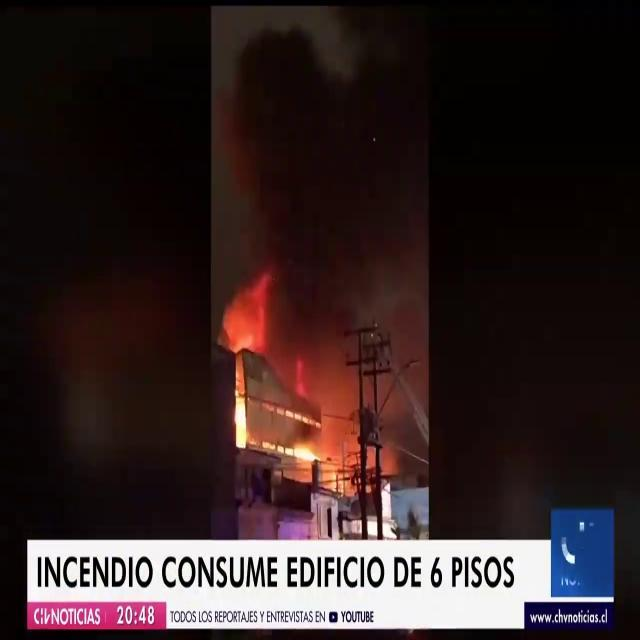Fire: (220, 292, 354, 482)
Smoke: (212, 4, 428, 366)
